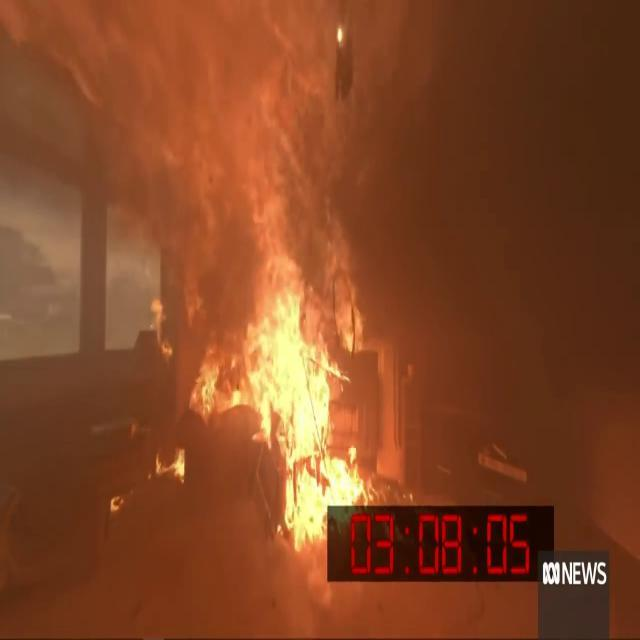Fire: (60, 0, 367, 480), (232, 280, 369, 552), (292, 471, 328, 550)
Smoke: (393, 17, 630, 472)
